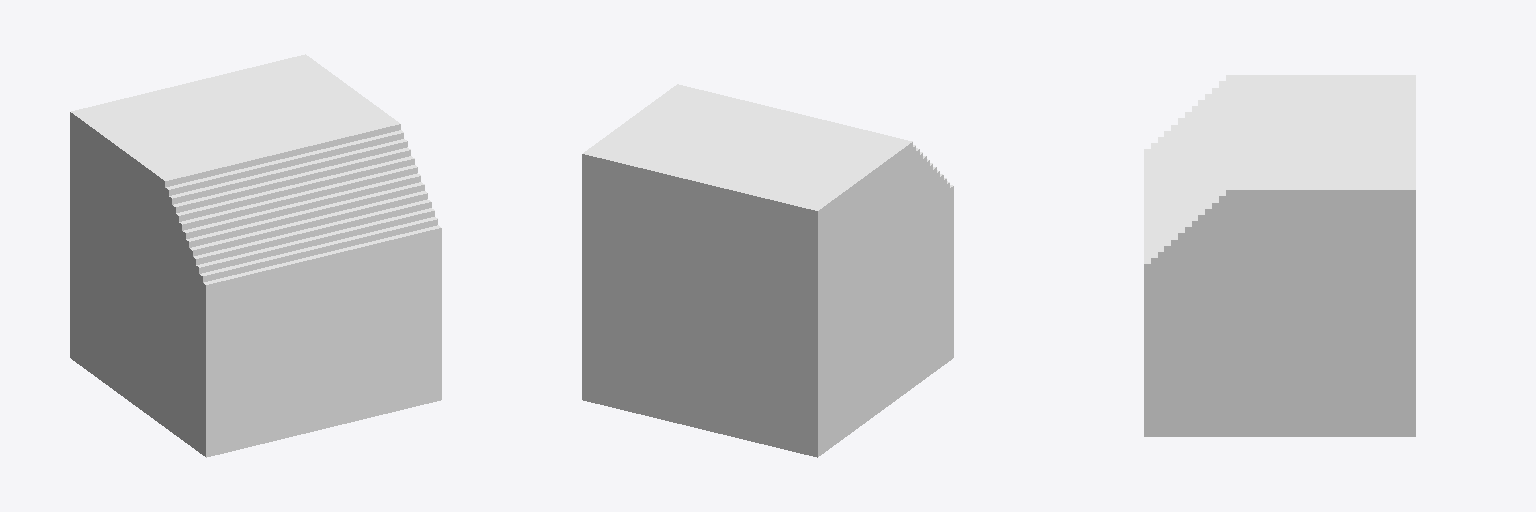
File: block1.3slide.obj
3 renders of one model, left to right at view 1: azimuth 30°, elevation 25°; view 2: azimuth 150°, elevation 25°; view 3: azimuth 270°, elevation 25°, orthographic.
Parts seen in each view (by area): view 1: object 1; view 2: object 1; view 3: object 1.
Boxes of the visible parts, box(x1,y1,x2,y2) form: object 1: box(70, 54, 441, 457); object 1: box(582, 84, 953, 457); object 1: box(1144, 75, 1415, 436).
Size of the model in its own units: 4 by 4 by 4.